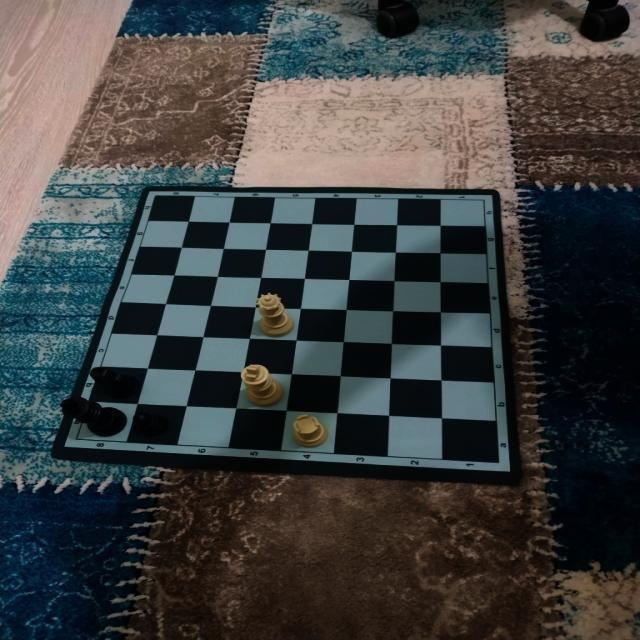chess-table-corners: (64, 432, 90, 448), (144, 188, 167, 204), (486, 456, 510, 470), (474, 194, 492, 206)
